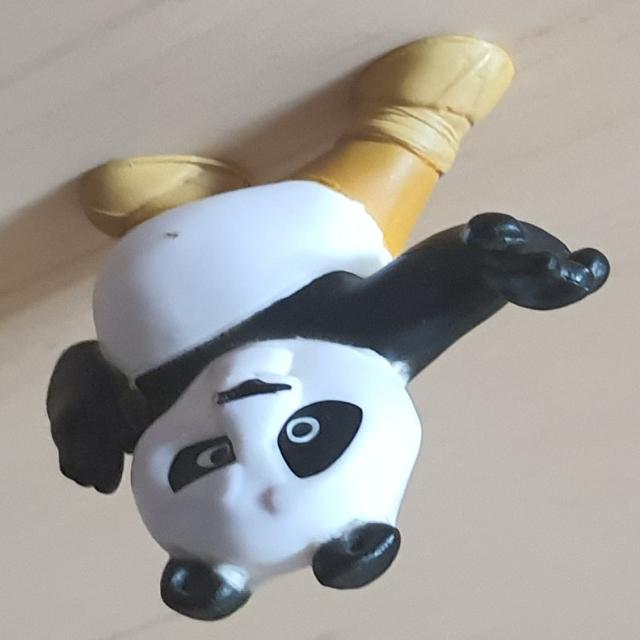Panda: (45, 34, 611, 623)
